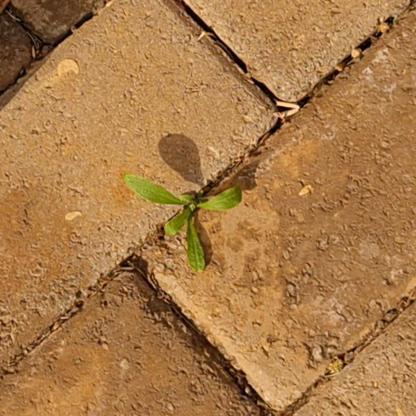Weeds: (125, 174, 243, 274)
